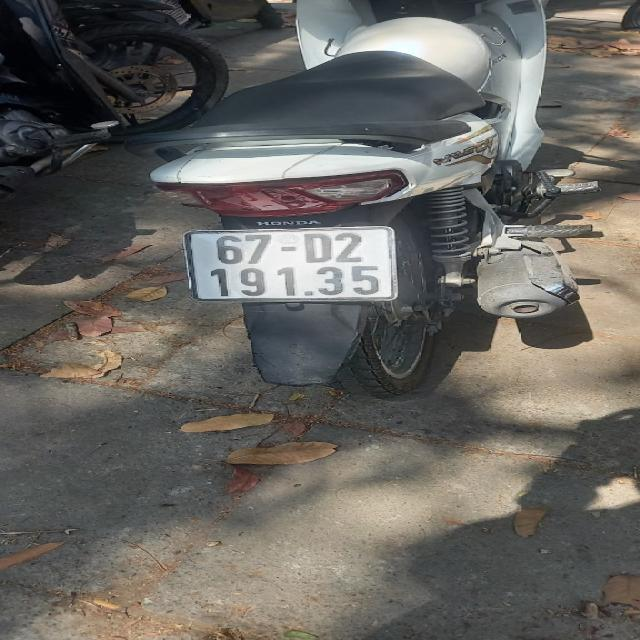1: (209, 268, 235, 297), (272, 266, 296, 297)
2: (333, 232, 364, 262)
3: (312, 266, 346, 296)
5: (352, 265, 382, 295)
6: (214, 234, 246, 264)
7: (245, 233, 269, 266)
9: (234, 266, 268, 296)
D: (302, 233, 333, 264)
